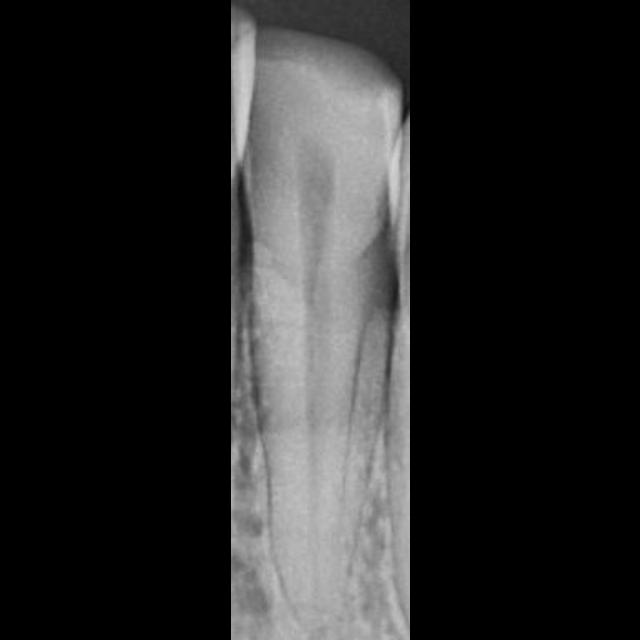tooth: (230, 8, 398, 638)
